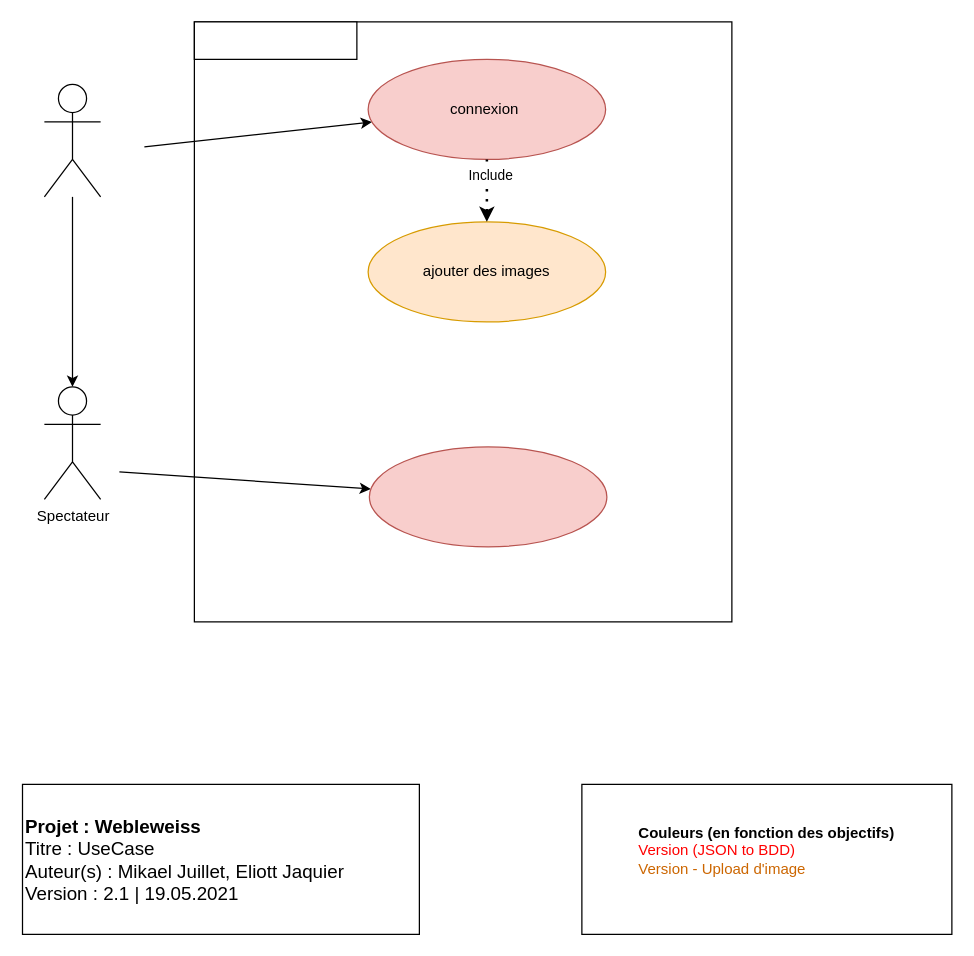
This 974x956 diagram has some shape labels left out. Here are the shapes that lost their labels. From the top down, the centre of each, then its label:
At (x=275, y=40): "Site internet (Cactus Pic)".
At (x=72, y=140): "Photographe".
At (x=487, y=496): "regarder les images".
